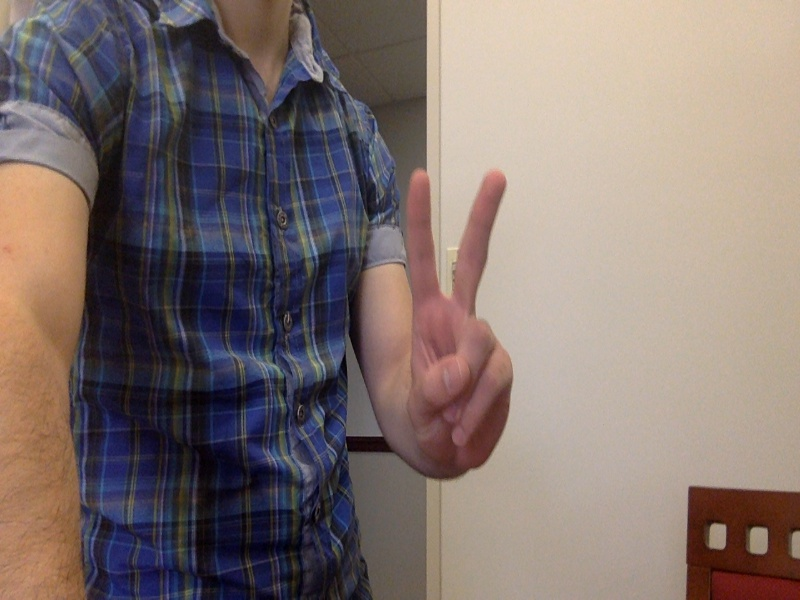2-hand: (402, 168, 519, 481)
